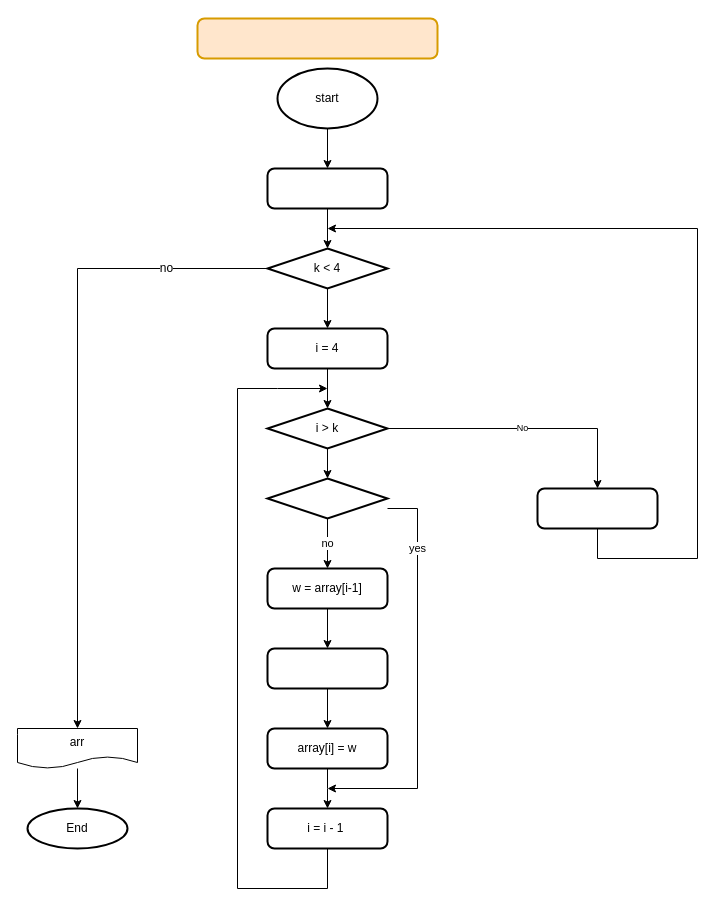
The diagram is 723 pixels wide and 914 high, and some of its shapes have lost their labels. Here are the shapes that lost their labels. From the top down, the box of each, then its label:
(196, 17, 438, 59): 정렬 - 단순 교환법_최종
(266, 167, 388, 209): k = 0
(266, 477, 388, 519): arr[i-1] < arr[i]
(536, 487, 658, 529): k = k+1
(266, 647, 388, 689): array[i-1] = array[i]
